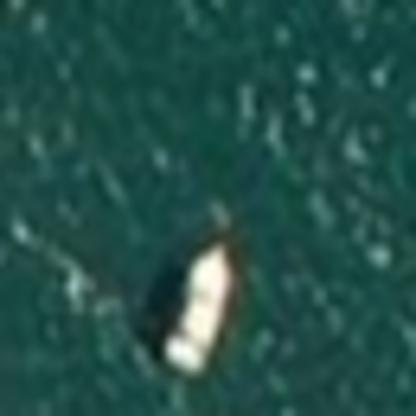ship: (150, 233, 248, 384)
